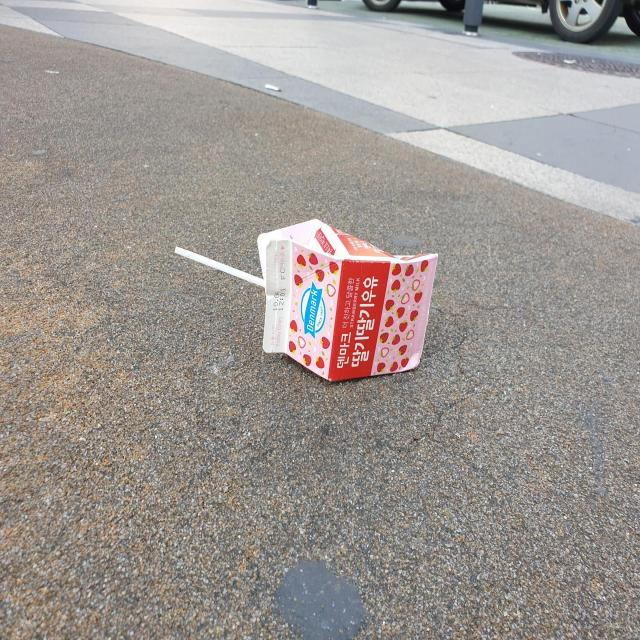paperpack: (257, 219, 438, 381)
